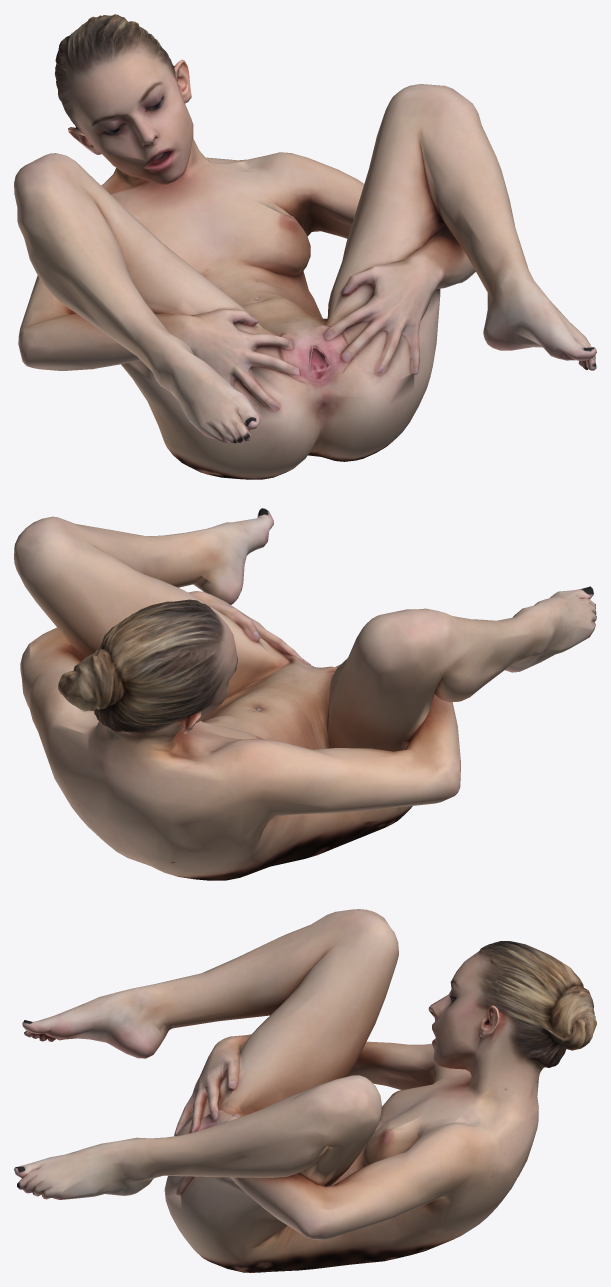
Rendered from dome021a.glb.
The picture shows the model from 3 angles, top to bottom: view 1: azimuth 30°, elevation 25°; view 2: azimuth 150°, elevation 25°; view 3: azimuth 270°, elevation 25°; orthographic projection. The views are drawn at different scales.
Visible parts, largest first — view 1: 10_LOD4_0; view 2: 10_LOD4_0; view 3: 10_LOD4_0.
Boxes of the visible parts, box(x1,y1,x2,y2) form: 10_LOD4_0: box(14, 14, 596, 479); 10_LOD4_0: box(14, 508, 596, 880); 10_LOD4_0: box(14, 909, 596, 1272).
Size of the model in its own units: 0.716 by 0.5141 by 0.9215.
Materials: 1 (1 with a texture image).
